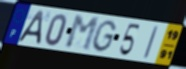0: (43, 12, 68, 48)
5: (118, 22, 142, 56)
A: (16, 10, 45, 46)
G: (90, 19, 119, 53)
I: (142, 25, 160, 61)
M: (64, 14, 101, 53)
